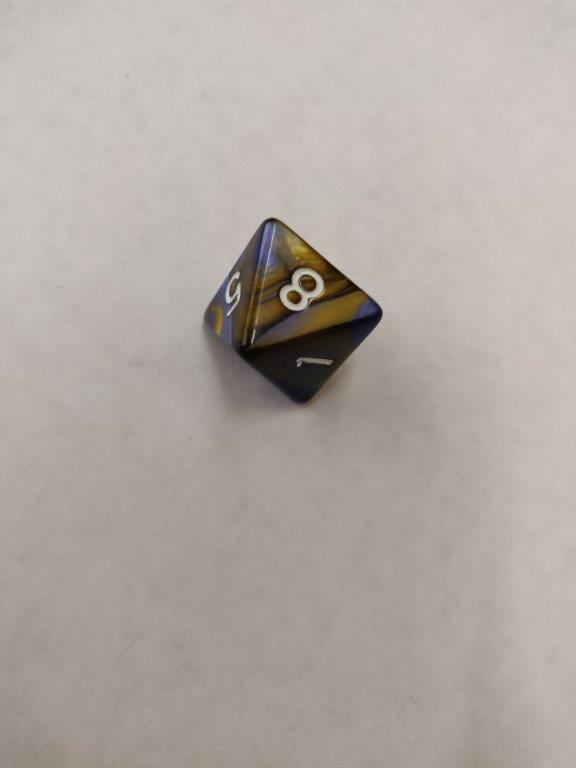d8-8: (198, 216, 383, 410)
